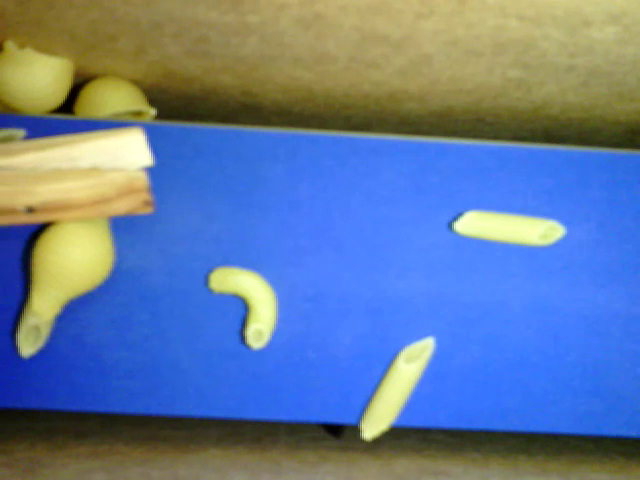elbow: (204, 263, 276, 348)
penne: (359, 335, 434, 442), (452, 206, 568, 249), (16, 277, 63, 360), (1, 126, 27, 148)
shell: (24, 206, 111, 312), (1, 38, 74, 121), (72, 76, 155, 124)
